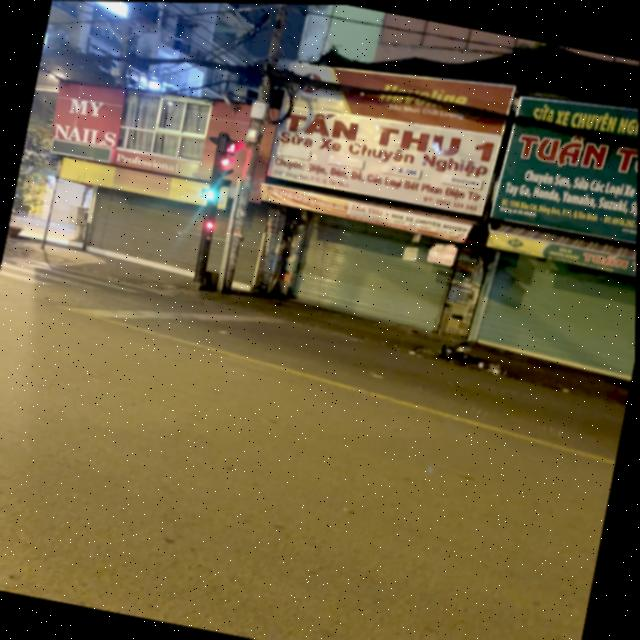Red: (208, 152, 239, 193), (198, 213, 222, 246)
